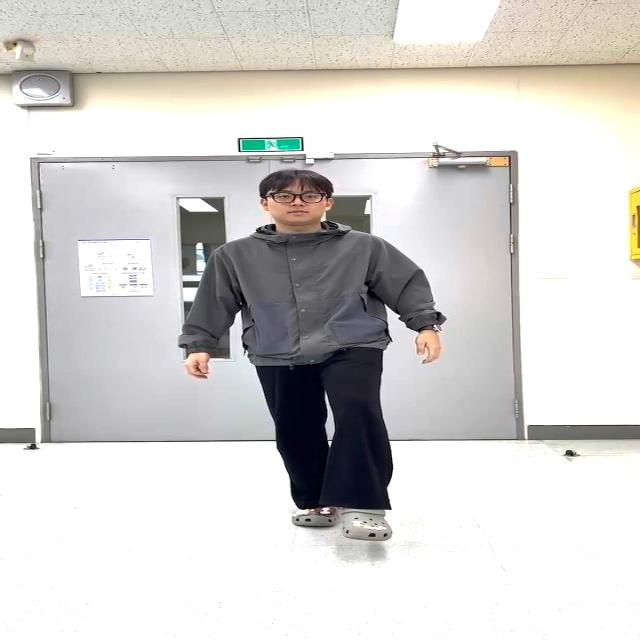leg: (307, 325, 423, 544)
